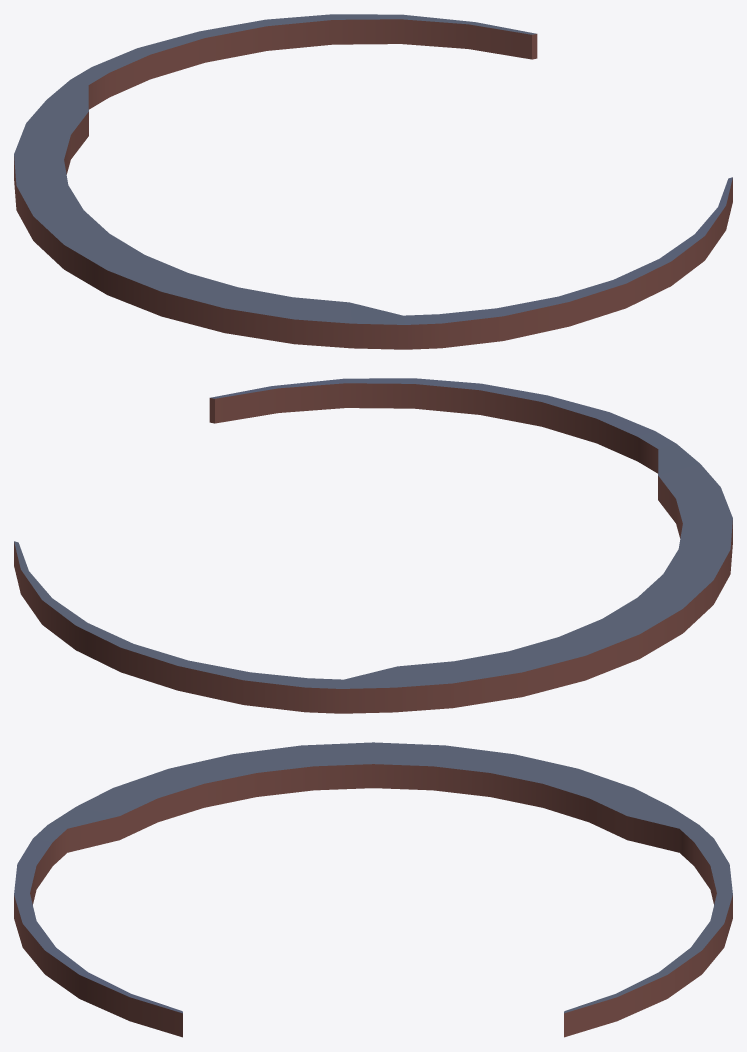
The model's file is Ring_teleport.fbx.
3 renders of one model, top to bottom at view 1: azimuth 30°, elevation 25°; view 2: azimuth 150°, elevation 25°; view 3: azimuth 270°, elevation 25°, orthographic. The views are drawn at different scales.
Visible parts, largest first — view 1: Ring_teleport; view 2: Ring_teleport; view 3: Ring_teleport.
Part boxes in pixels (bbox=[...]): Ring_teleport: bbox=[14, 14, 732, 349]; Ring_teleport: bbox=[14, 378, 732, 713]; Ring_teleport: bbox=[14, 742, 732, 1037].
Bounding box in the file's own units: 43.49 × 1.8 × 48.75.
